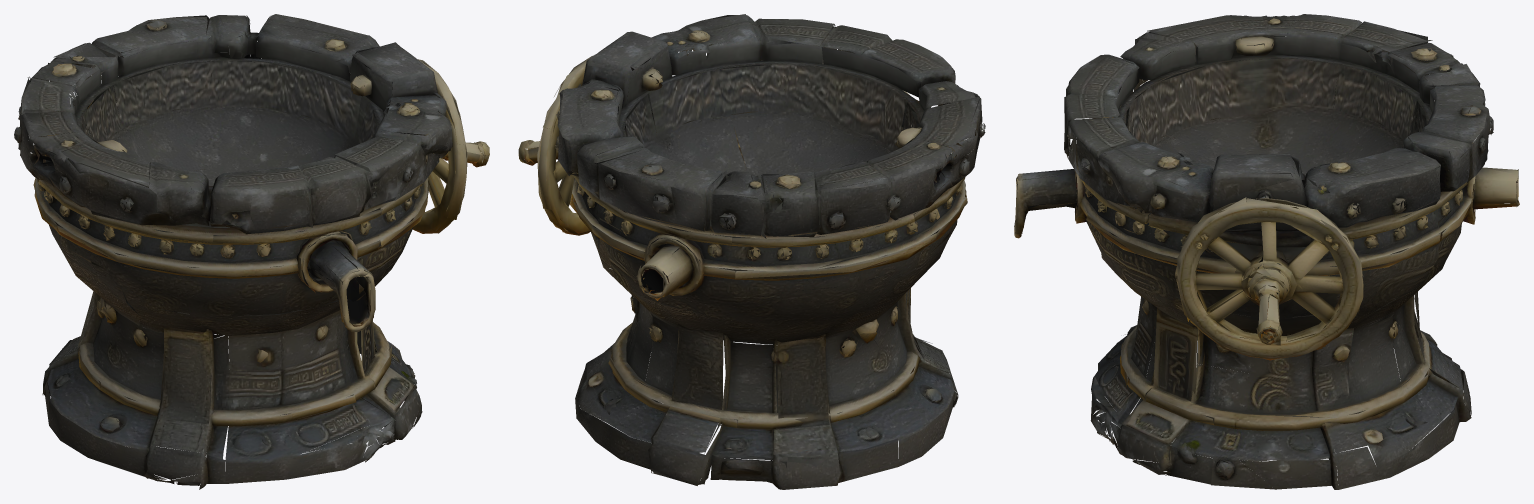
The model's file is ch2_hydraulic_cistern_valve_LOD1.glb.
3 views of the same model, side by side, from view 1: azimuth 30°, elevation 25°; view 2: azimuth 150°, elevation 25°; view 3: azimuth 270°, elevation 25° (orthographic).
Parts seen in each view (by area): view 1: tripo_node_84130d39-5f79-4c77-8b50-4e8281992308; view 2: tripo_node_84130d39-5f79-4c77-8b50-4e8281992308; view 3: tripo_node_84130d39-5f79-4c77-8b50-4e8281992308.
Part boxes in pixels (box(x1,y1,x2,y2)): tripo_node_84130d39-5f79-4c77-8b50-4e8281992308: box(14, 14, 489, 489); tripo_node_84130d39-5f79-4c77-8b50-4e8281992308: box(518, 14, 985, 489); tripo_node_84130d39-5f79-4c77-8b50-4e8281992308: box(1014, 14, 1519, 489).
Size of the model in its own units: 1 by 0.7016 by 0.9942.
1 material, 1 textured.
